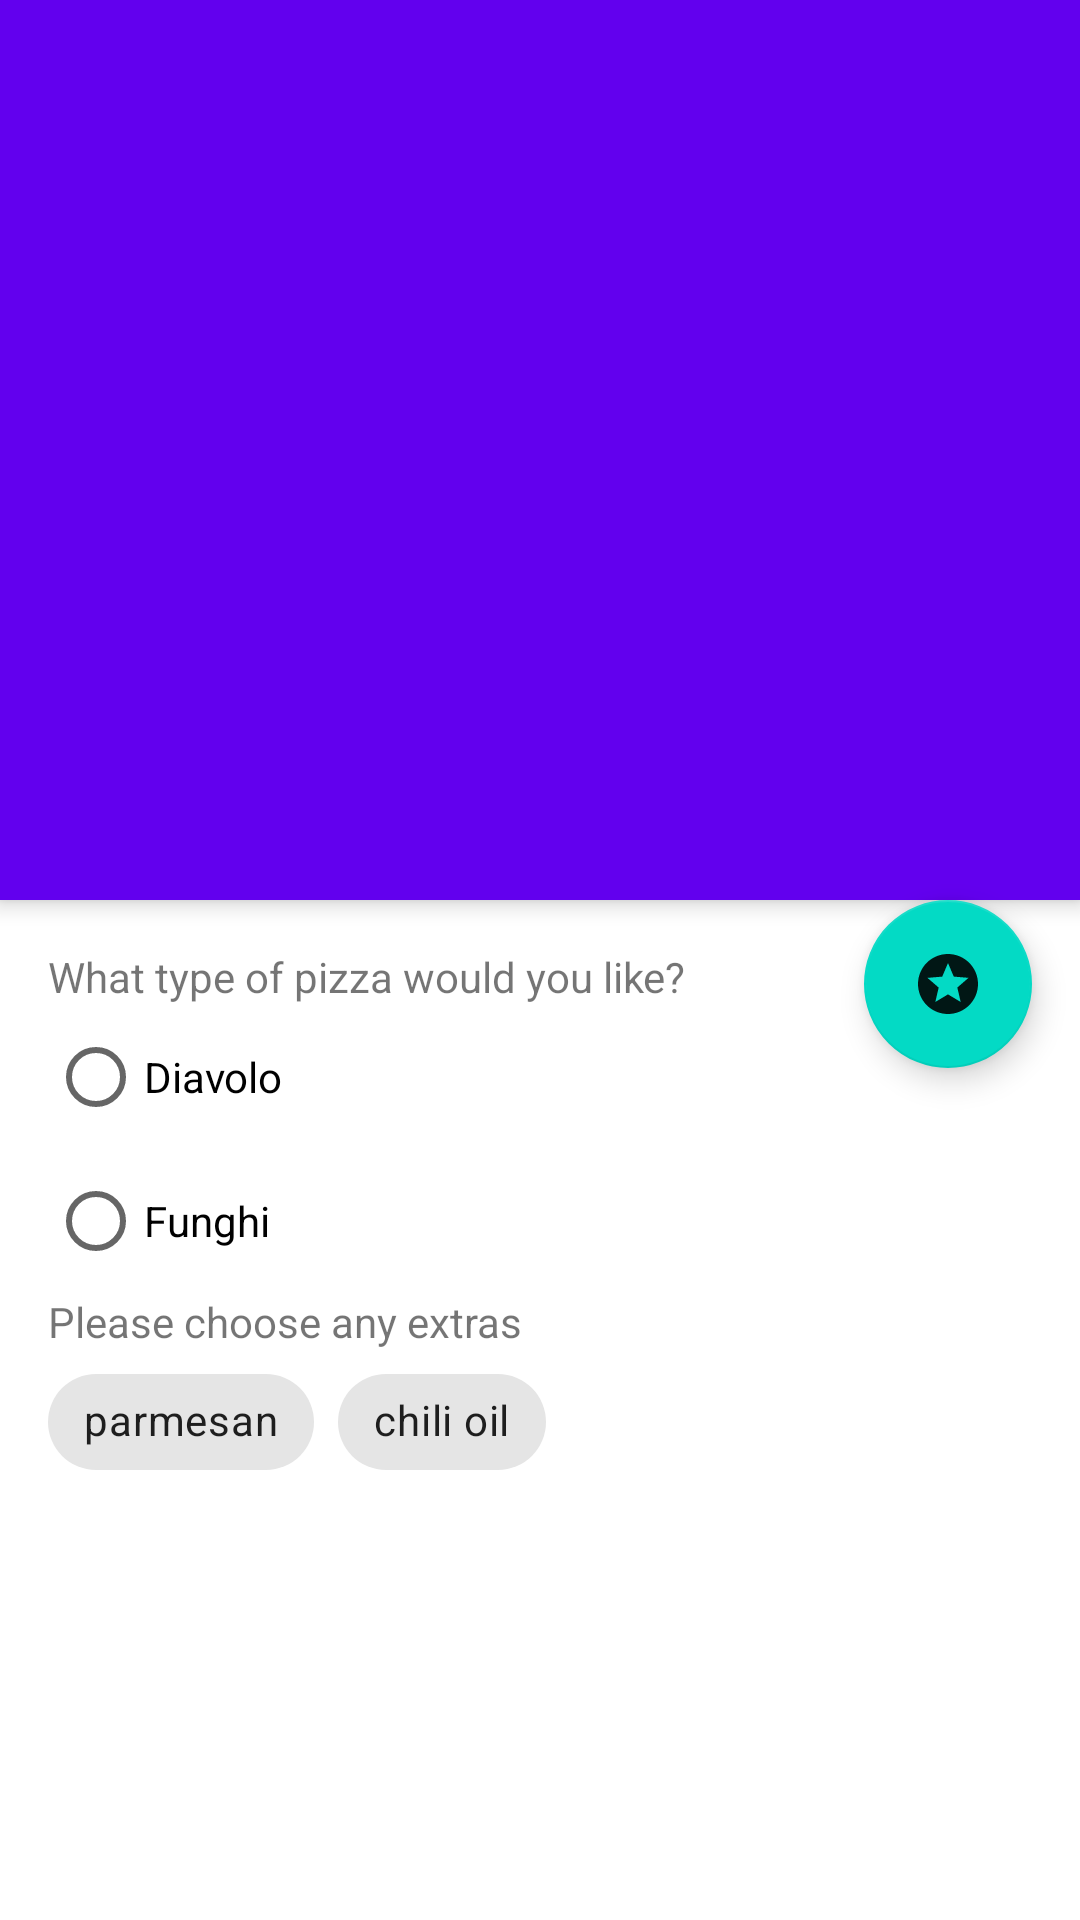

Icon click points for this 1080 x 1920 phone screenshot, format [x,y]:
stars: [948,984]
